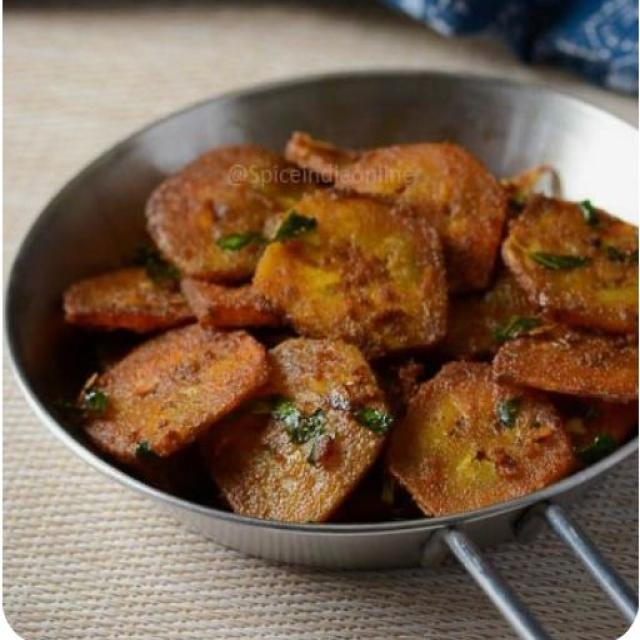VEGGIES: (61, 127, 638, 524)
